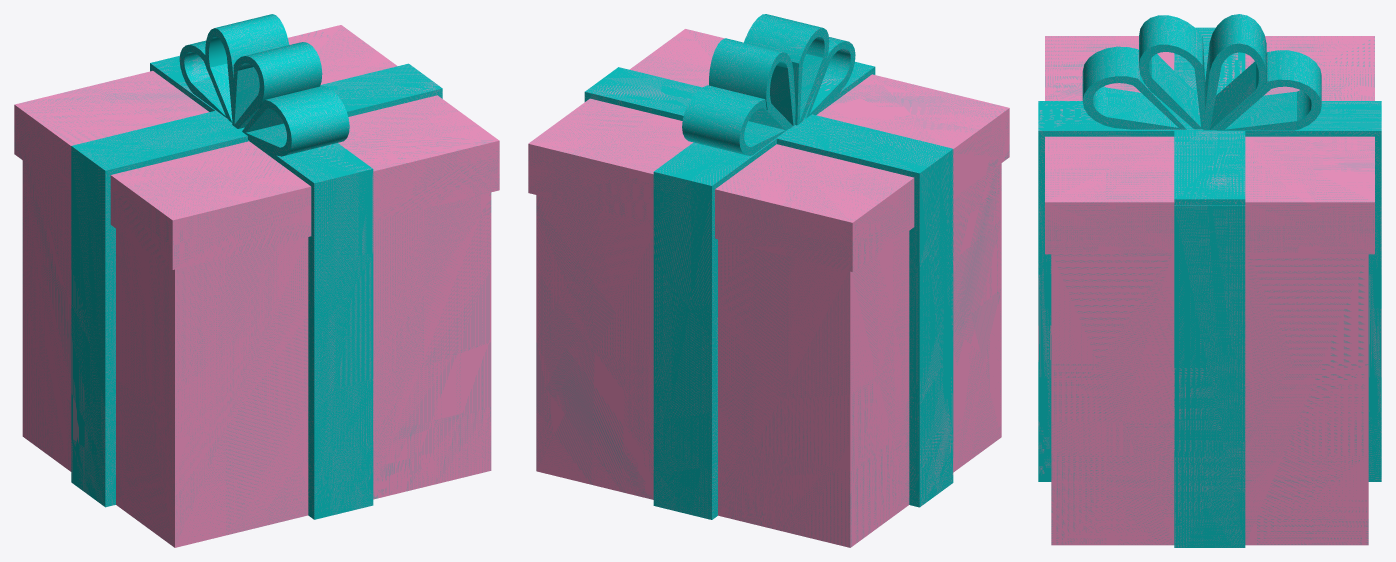
File: presentbox.dae
The picture shows the model from 3 angles, left to right: view 1: azimuth 30°, elevation 25°; view 2: azimuth 150°, elevation 25°; view 3: azimuth 270°, elevation 25°; orthographic projection. The views are drawn at different scales.
Parts seen in each view (by area): view 1: SketchUp (×8), group_0 (×7); view 2: SketchUp (×8), group_0 (×8); view 3: SketchUp (×6), group_0 (×8).
Part boxes in pixels (x1,y1,x2,y2): SketchUp (×8): [14, 25, 499, 547]; group_0 (×7): [179, 14, 349, 156]; SketchUp (×8): [528, 29, 1009, 547]; group_0 (×8): [682, 14, 855, 155]; SketchUp (×6): [1038, 27, 1381, 547]; group_0 (×8): [1082, 14, 1321, 130].
Bounding box in the file's own units: 25.2 × 21.26 × 29.97.
